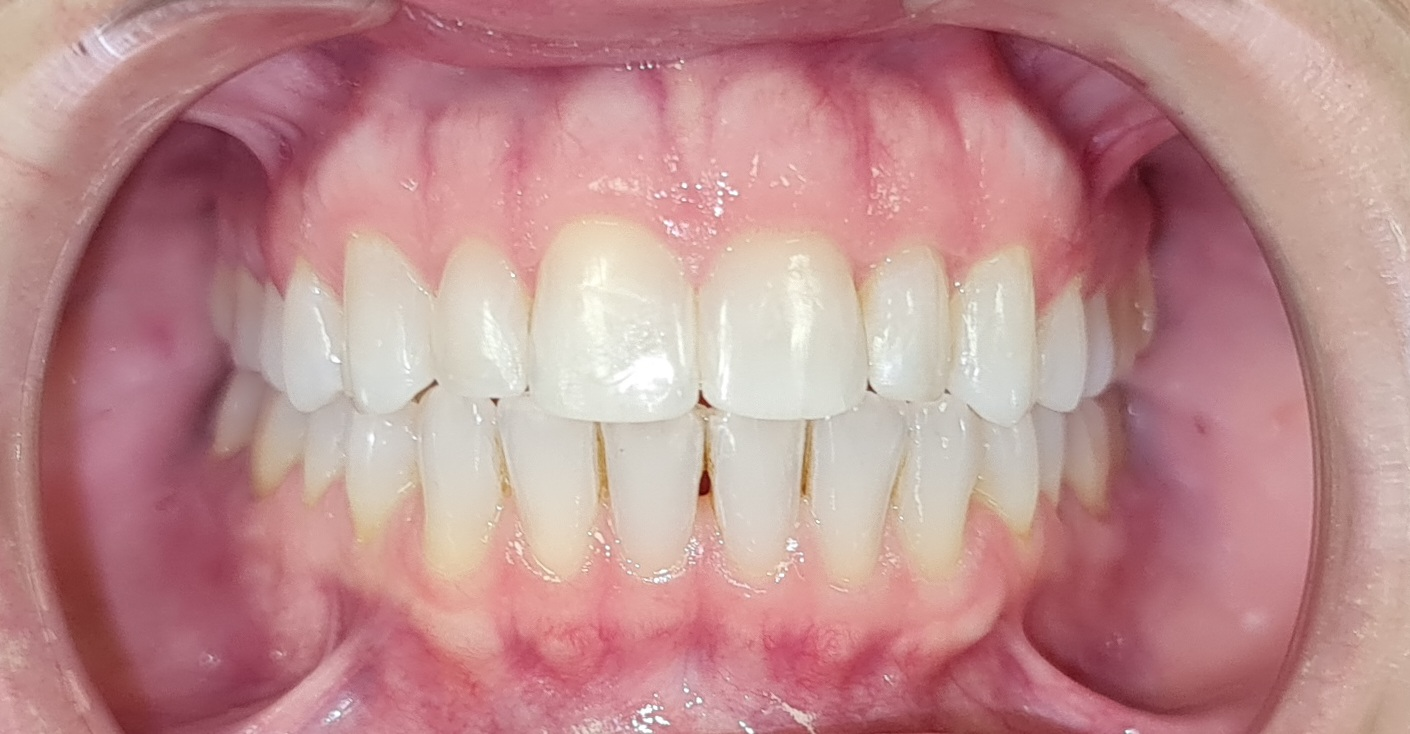LL1BC_healthy: (980, 422, 1039, 532)
LL1M_healthy: (1064, 422, 1099, 510)
LL2BC_healthy: (1044, 416, 1063, 504)
LLCI_healthy: (712, 416, 802, 570)
LLC_healthy: (903, 406, 972, 570)
LLLI_healthy: (812, 420, 898, 574)
LR1BC_healthy: (346, 418, 420, 537)
LR1M_healthy: (251, 418, 298, 492)
LR2BC_healthy: (304, 416, 342, 502)
LR2M_healthy: (214, 384, 248, 456)
LRCI_healthy: (604, 422, 700, 570)
LRC_healthy: (420, 405, 500, 565)
LRLI_healthy: (503, 417, 598, 573)
UL1BC_healthy: (1038, 288, 1086, 409)
UL2BC_healthy: (1087, 290, 1114, 396)
ULCI_healthy: (702, 254, 867, 414)
ULC_healthy: (955, 252, 1032, 421)
ULLI_healthy: (867, 252, 951, 400)
UR1BC_healthy: (283, 272, 346, 409)
UR1M_healthy: (232, 274, 260, 376)
UR2BC_healthy: (262, 290, 282, 393)
UR2M_healthy: (214, 281, 230, 340)
URCI_healthy: (531, 228, 698, 420)
URC_healthy: (346, 237, 440, 413)
URLI_healthy: (434, 249, 532, 396)
